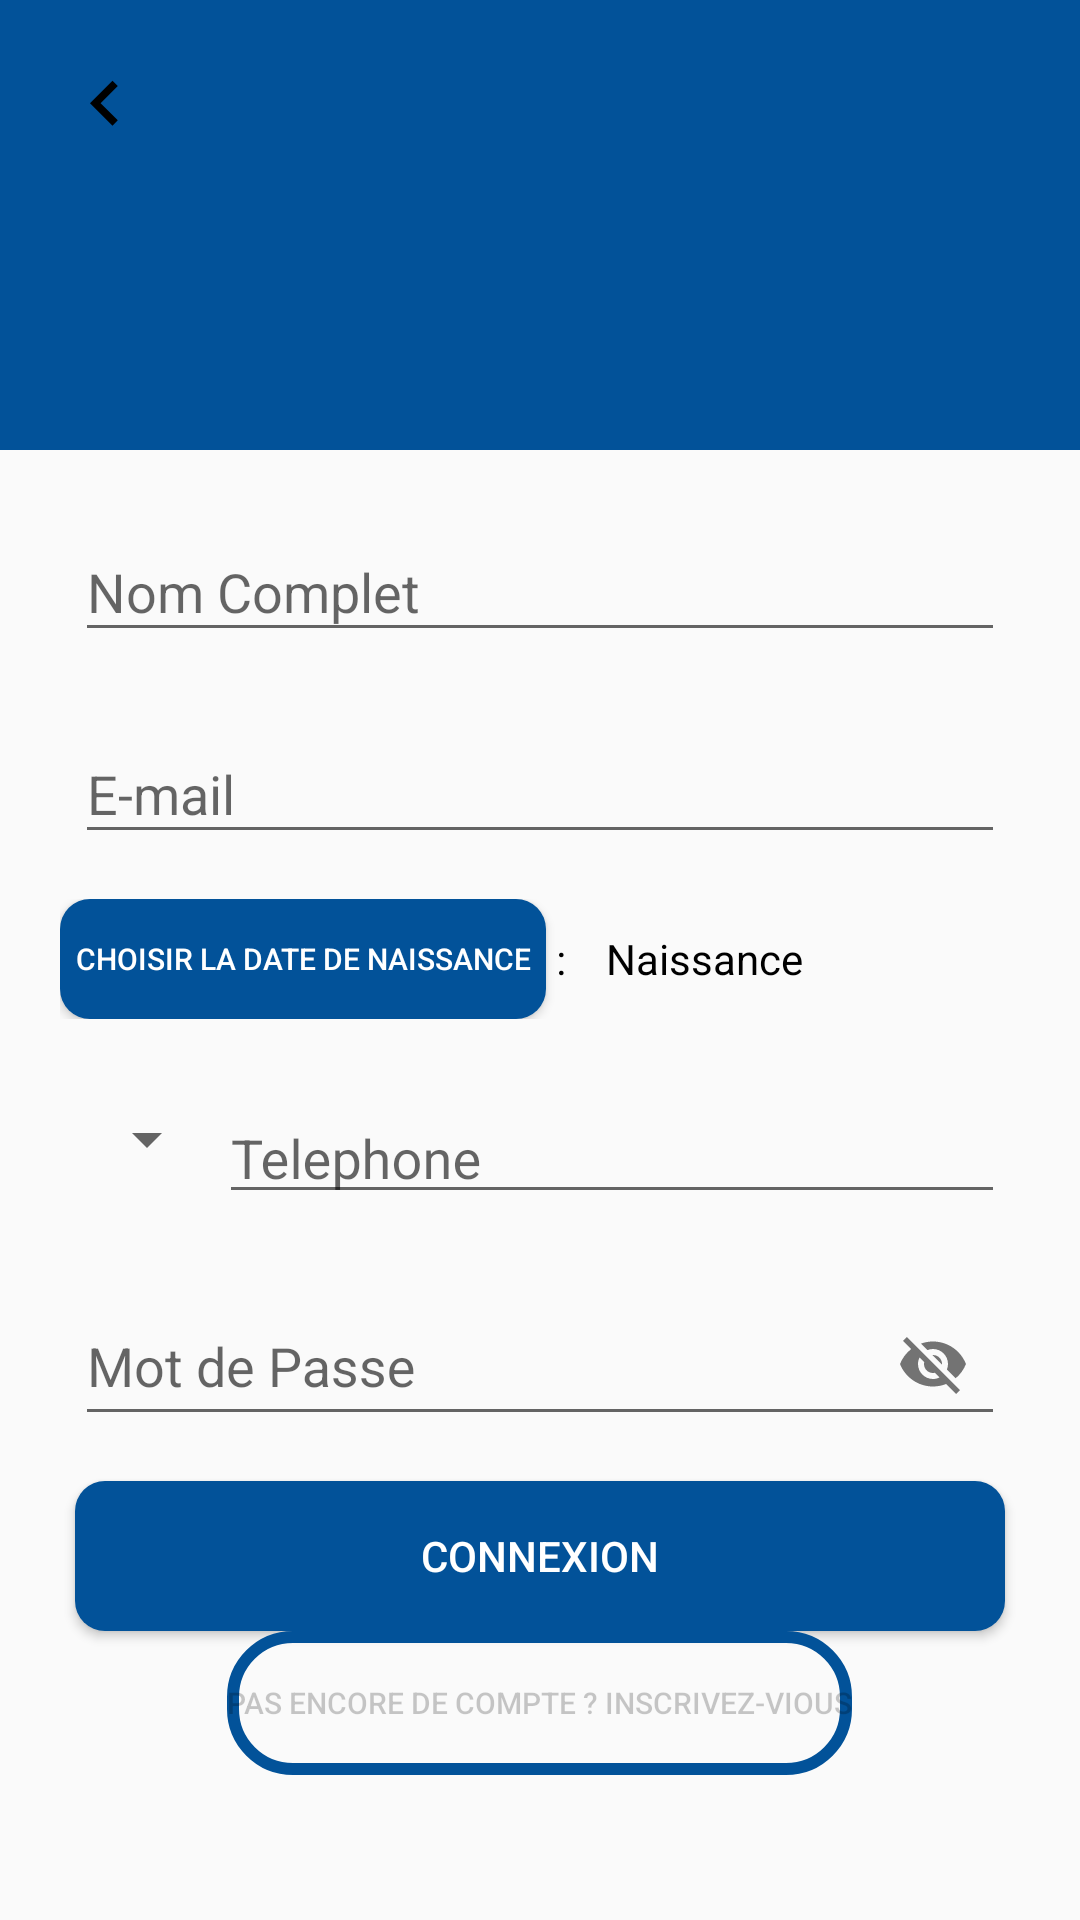

Point at icon controls on the screen. Image size 1080w x 1920h, points as (x,y).
keyboard arrow left: (104,103)
